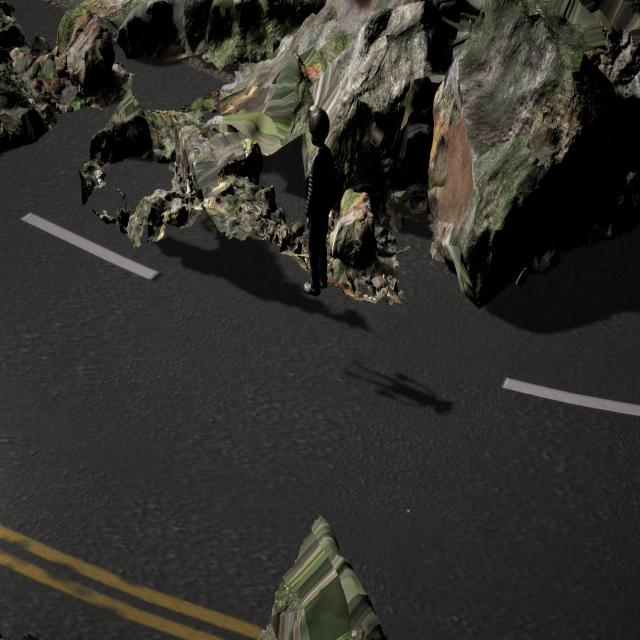Human: (297, 101, 343, 303)
